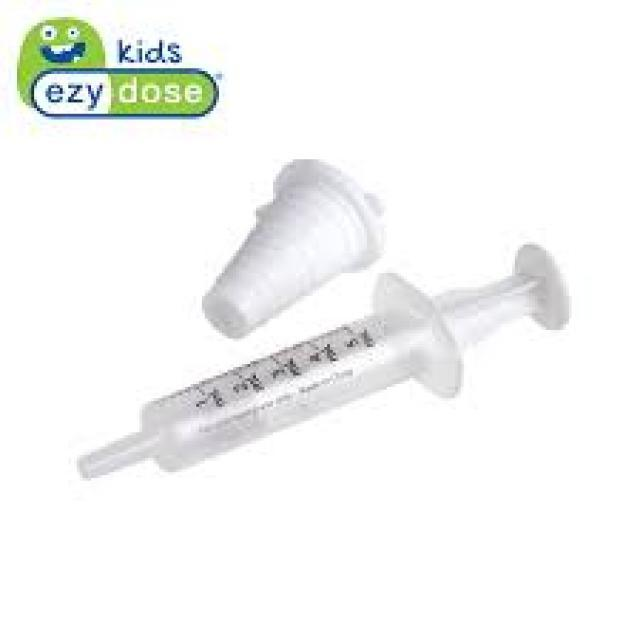syringe: (10, 177, 557, 448)
